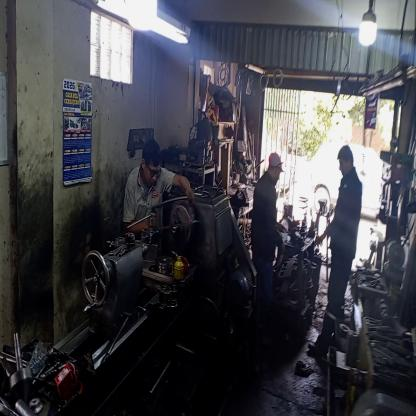lentes: (145, 160, 162, 179)
